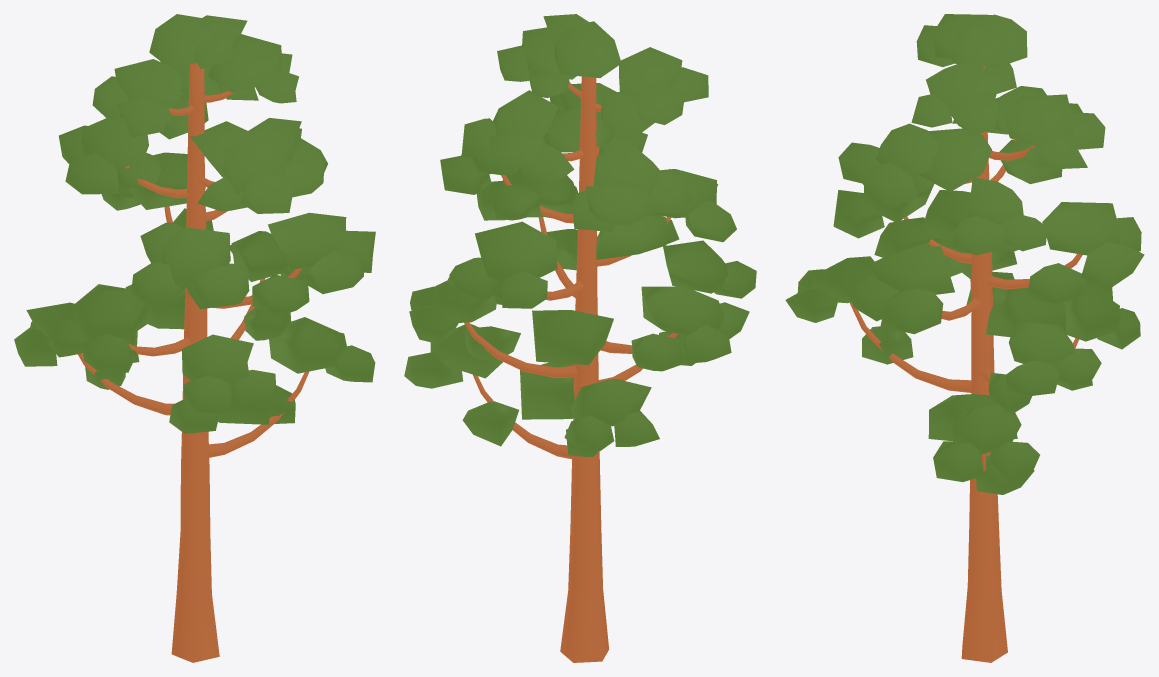
File: Blender_Ponderosa_2_Far.glb
The picture shows the model from 3 angles, left to right: view 1: azimuth 30°, elevation 25°; view 2: azimuth 150°, elevation 25°; view 3: azimuth 270°, elevation 25°; orthographic projection.
Parts seen in each view (by area): view 1: Blender_Ponderosa_2_Far; view 2: Blender_Ponderosa_2_Far; view 3: Blender_Ponderosa_2_Far.
Part boxes in pixels (left/top/right/bottom): Blender_Ponderosa_2_Far: left=14, top=14, right=375, bottom=662; Blender_Ponderosa_2_Far: left=404, top=14, right=756, bottom=662; Blender_Ponderosa_2_Far: left=785, top=14, right=1144, bottom=662.
Size of the model in its own units: 12.08 by 23.71 by 12.16.
